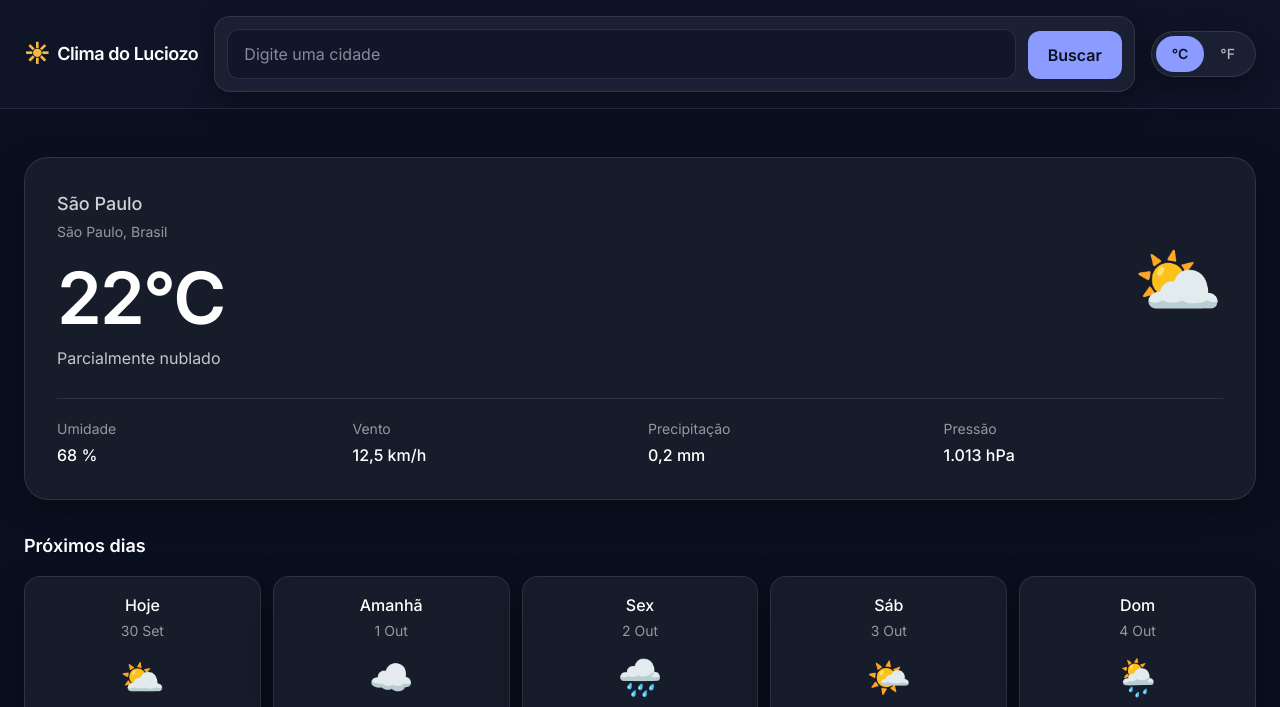
Test: App › renders hook data and converts temperatures using UI unit state
Expected: the text "22°C" is shown, x1=57 y1=262 x2=224 y2=334
Step 1. Click the button named "Fahrenheit" → {"x": 1228, "y": 54}, box x1=1204 y1=36 x2=1251 y2=72
(page scrolled)
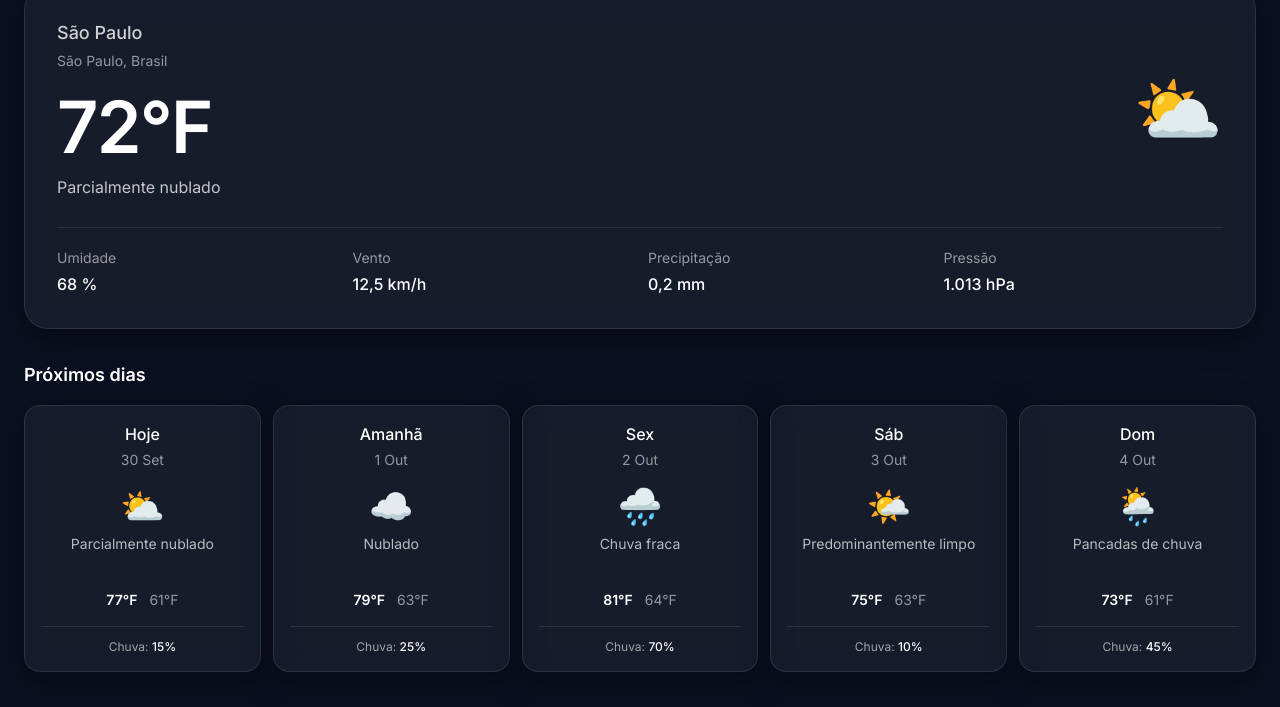
Now the text "72°F" is shown, box x1=57 y1=91 x2=220 y2=163
Now the text "77°F" is shown, box x1=106 y1=590 x2=137 y2=610
